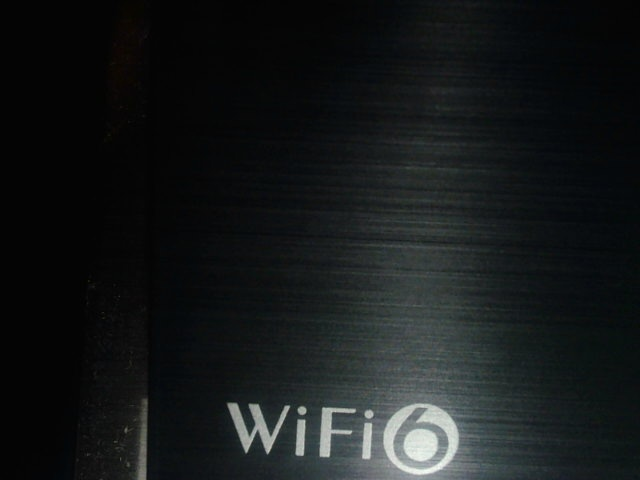AK_ZTEWIFI6Black: (218, 390, 471, 477)
